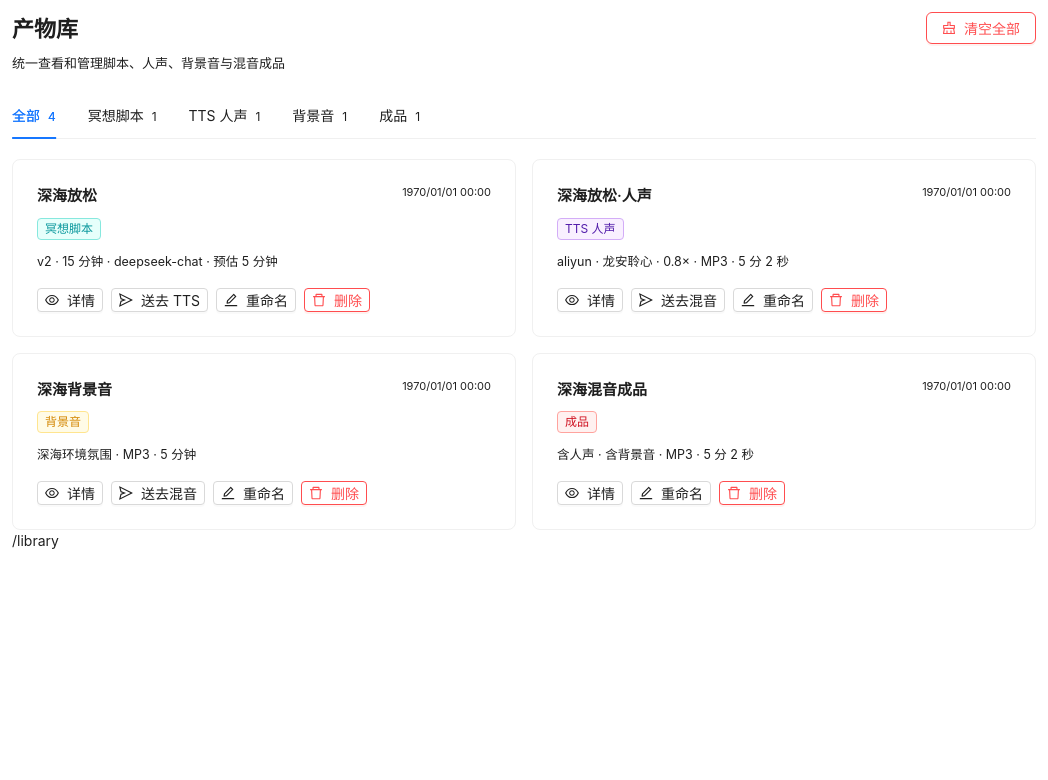
Test: LibraryPage › routes voice and BGM artifacts to mixdown with preselection
Expected: the text "深海放松·人声" is shown, [557,184,652,208]
Step 1. Click the tab "TTS 人声 1" → x=224, y=116, box [188,105,260,127]
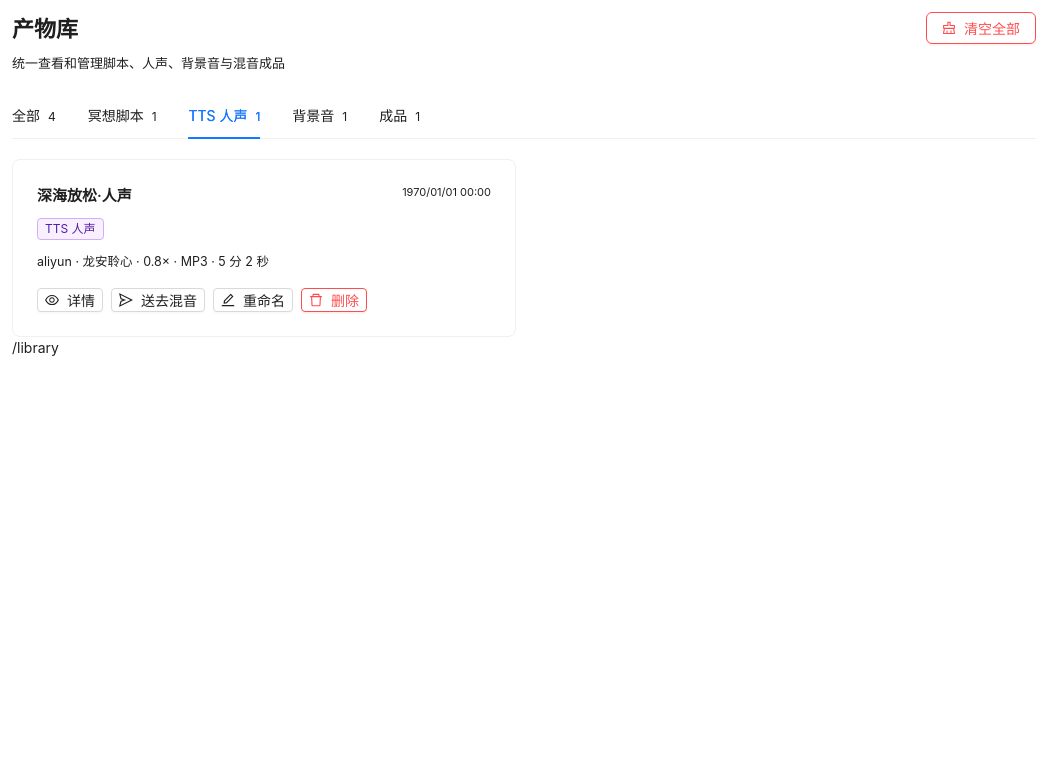
Step 2. Click the button "送去混音" → x=158, y=300, box [111,288,205,312]
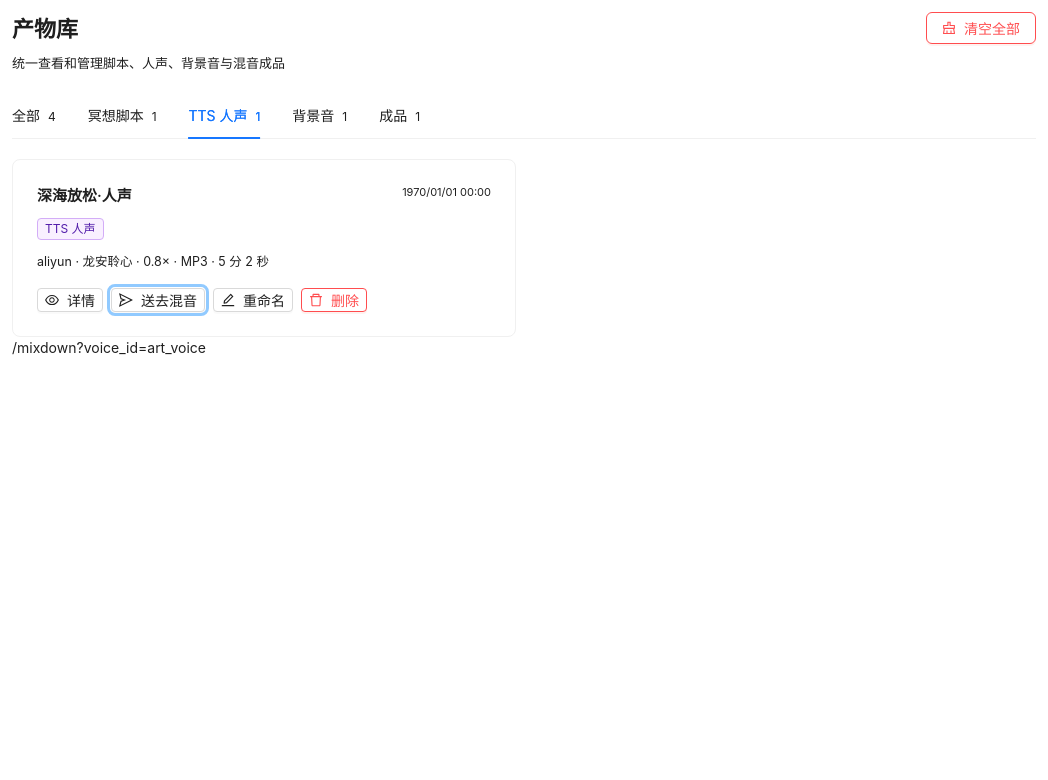
Expected: the text with test id "location" reads "/mixdown?voice_id=art_voice", [12,338,206,356]
Step 3. Click the tab "背景音 1" → x=320, y=116, box [292,105,347,127]
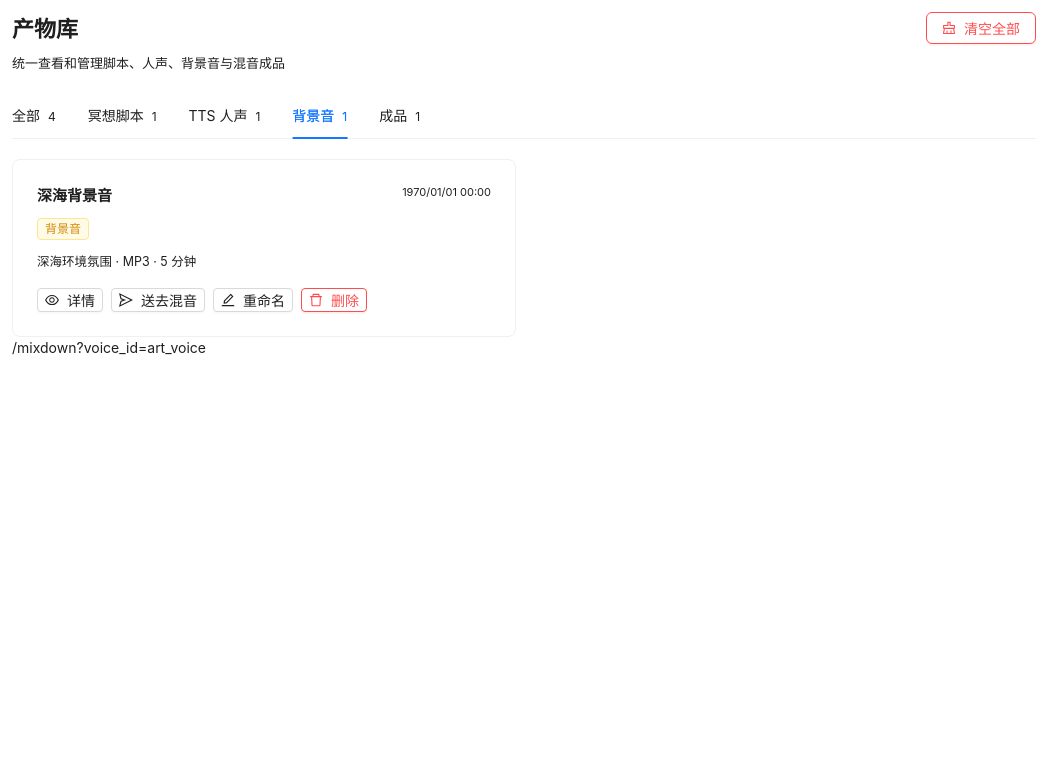
Step 4. Click the button "送去混音" → x=158, y=300, box [111,288,205,312]
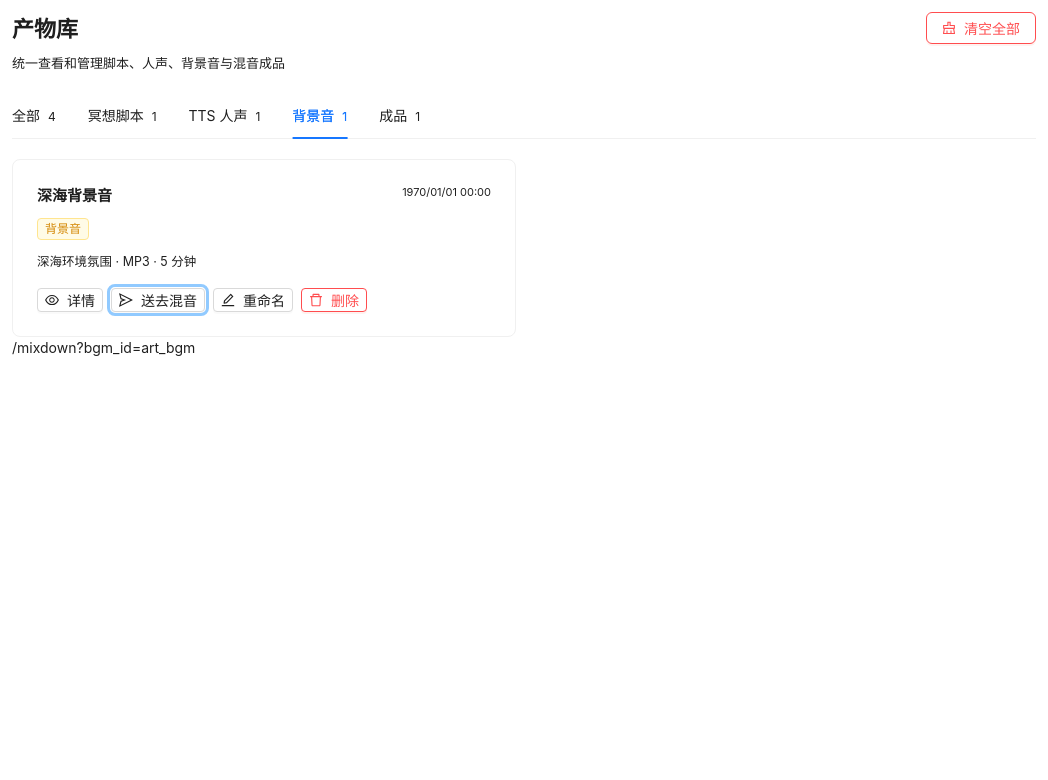
Expected: the text with test id "location" reads "/mixdown?bgm_id=art_bgm", [12,338,195,356]
